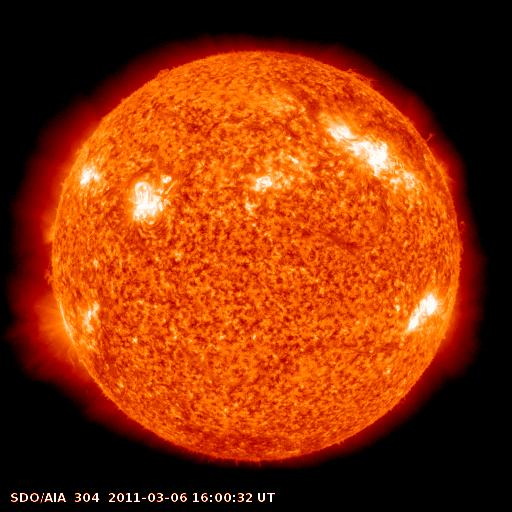prominence: (336, 58, 386, 93), (36, 254, 72, 302), (451, 214, 475, 262), (411, 119, 443, 152)
